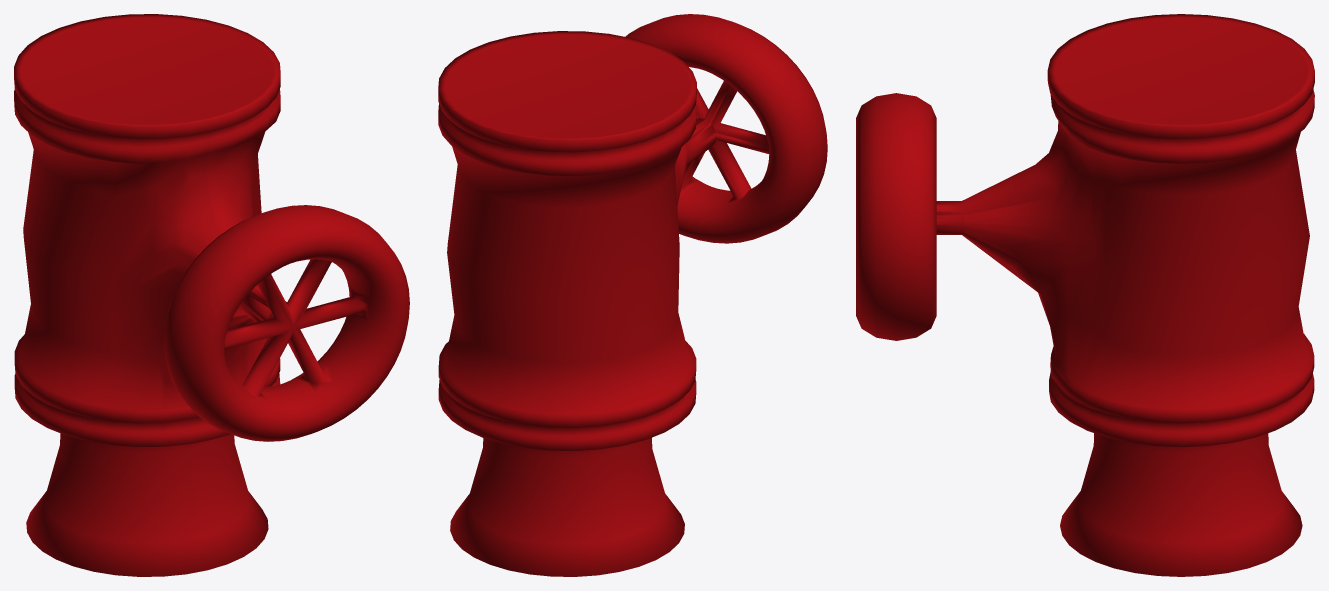
File: вент.fbx
3 views of the same model, side by side, from view 1: azimuth 30°, elevation 25°; view 2: azimuth 150°, elevation 25°; view 3: azimuth 270°, elevation 25° (orthographic). The views are drawn at different scales.
Visible parts, largest first — view 1: Cylinder.065; view 2: Cylinder.065; view 3: Cylinder.065.
Boxes of the visible parts, left/top/right/bottom form: Cylinder.065: left=14, top=14, right=409, bottom=576; Cylinder.065: left=438, top=14, right=827, bottom=576; Cylinder.065: left=856, top=14, right=1314, bottom=576.
Size of the model in its own units: 51.39 by 95.33 by 87.05.
Materials: 1 (1 with a texture image).
